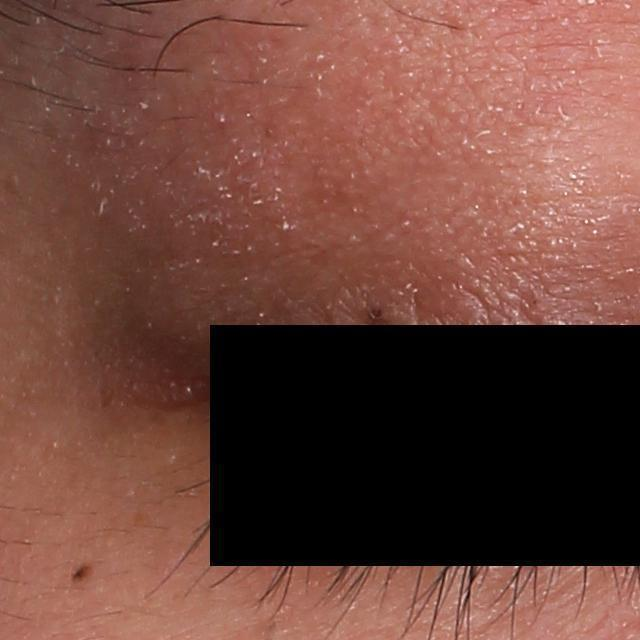nevus: (66, 561, 94, 582)
